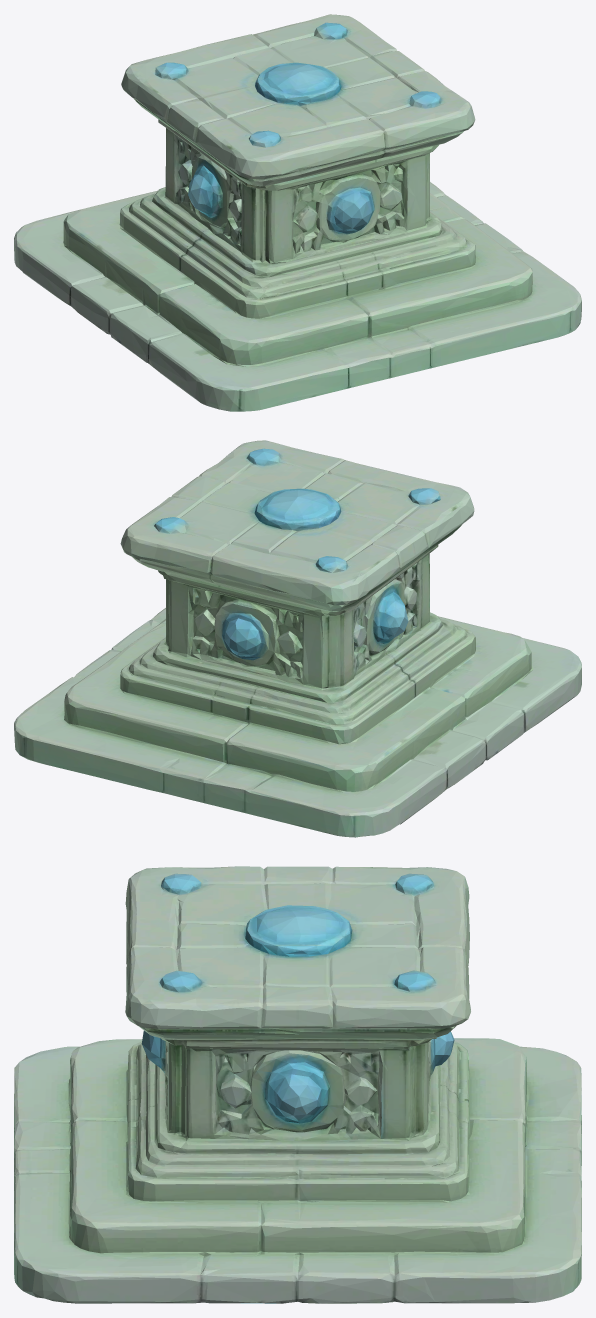
The model's file is ancient_altar.glb.
3 views of the same model, one above another, from view 1: azimuth 30°, elevation 25°; view 2: azimuth 150°, elevation 25°; view 3: azimuth 270°, elevation 25° (orthographic). The views are drawn at different scales.
Size of the model in its own units: 1.9 by 1.05 by 1.98.
1 material, 1 textured.
